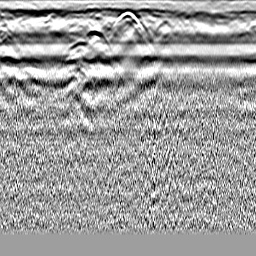cavity: (116, 7, 139, 27)
